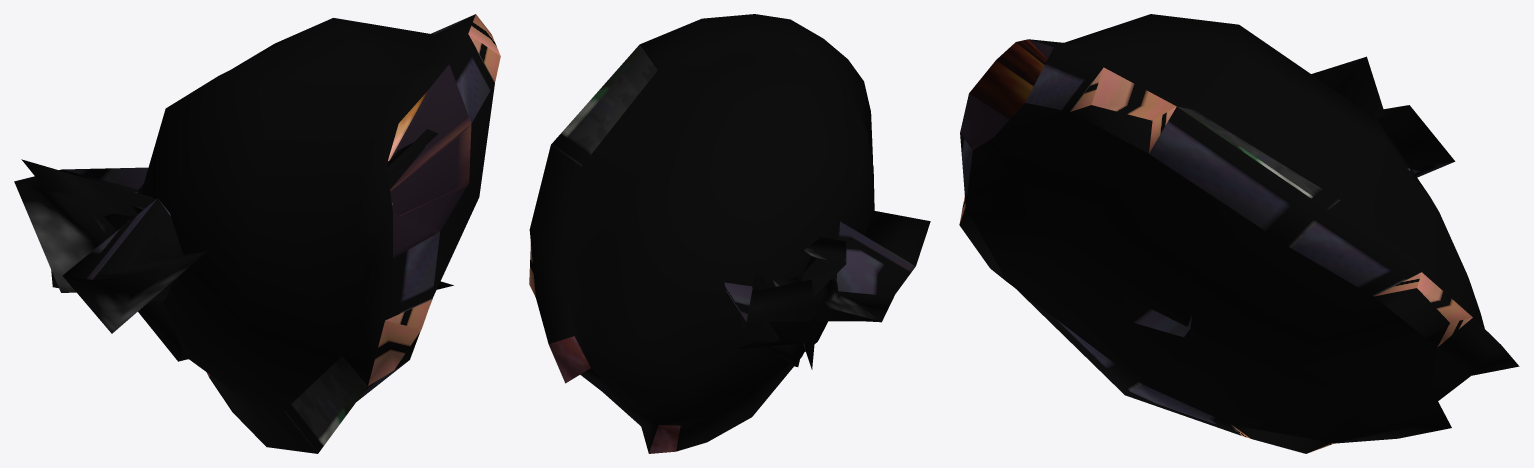
3 views of the same model, side by side, from view 1: azimuth 30°, elevation 25°; view 2: azimuth 150°, elevation 25°; view 3: azimuth 270°, elevation 25° (orthographic). The views are drawn at different scales.
Parts seen in each view (by area): view 1: T1L6M005_17; view 2: T1L6M005_17; view 3: T1L6M005_17.
Part boxes in pixels (box(x1,y1,x2,y2)): T1L6M005_17: box(14, 14, 500, 453); T1L6M005_17: box(529, 14, 930, 453); T1L6M005_17: box(959, 14, 1519, 453).
Bounding box in the file's own units: 1.4 × 1.43 × 1.65.
